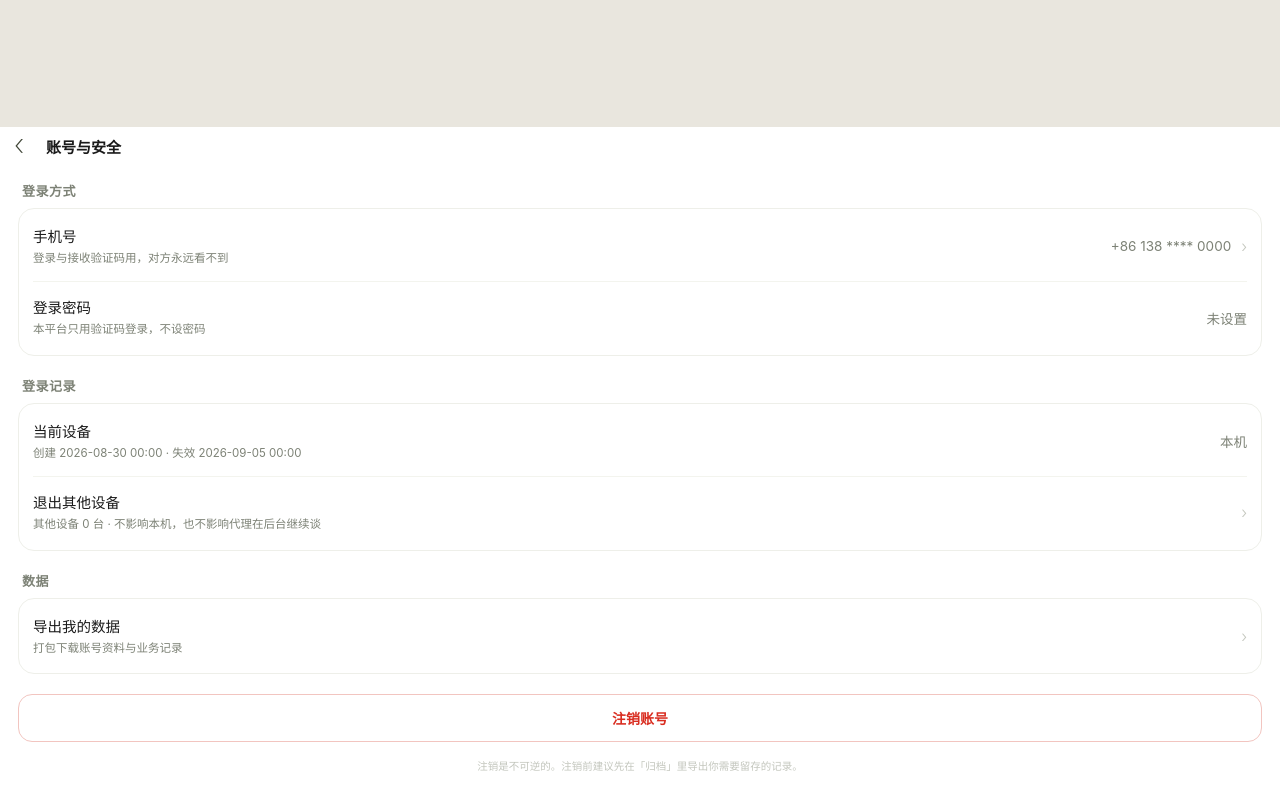
Test case: 账号安全 · Backend 数据导出与注销 › 注销说明抽屉在中性化后仍完整披露：立即删除 / 代谈终止 / 对方所见
(page scrolled)
Click the button "注销账号": (640, 718) [18, 694, 1262, 742]
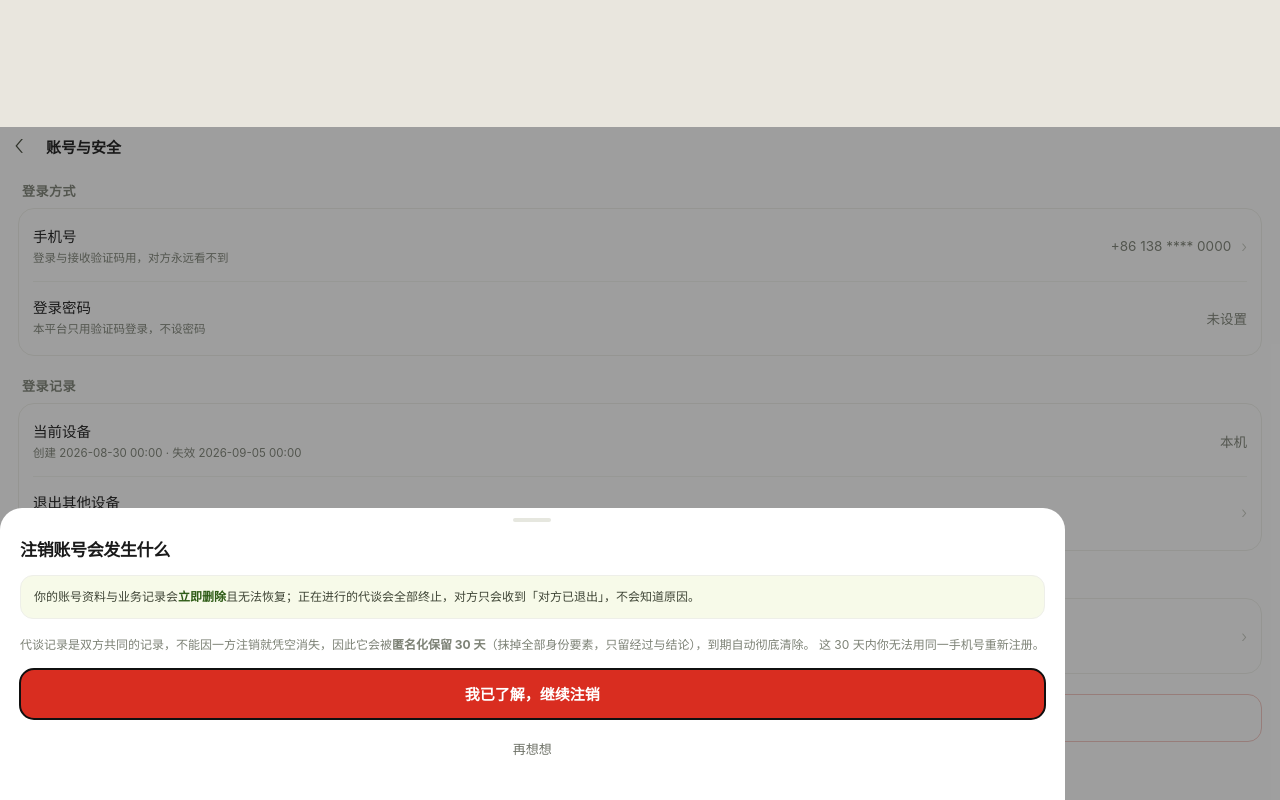
Check: the text "正在进行的代谈会全部终止" shows "账号资料与业务记录", box [34, 589, 178, 604]
Check: the text "正在进行的代谈会全部终止" shows "立即删除", box [178, 589, 226, 604]
Check: the text "正在进行的代谈会全部终止" shows "且无法恢复", box [226, 589, 700, 604]
